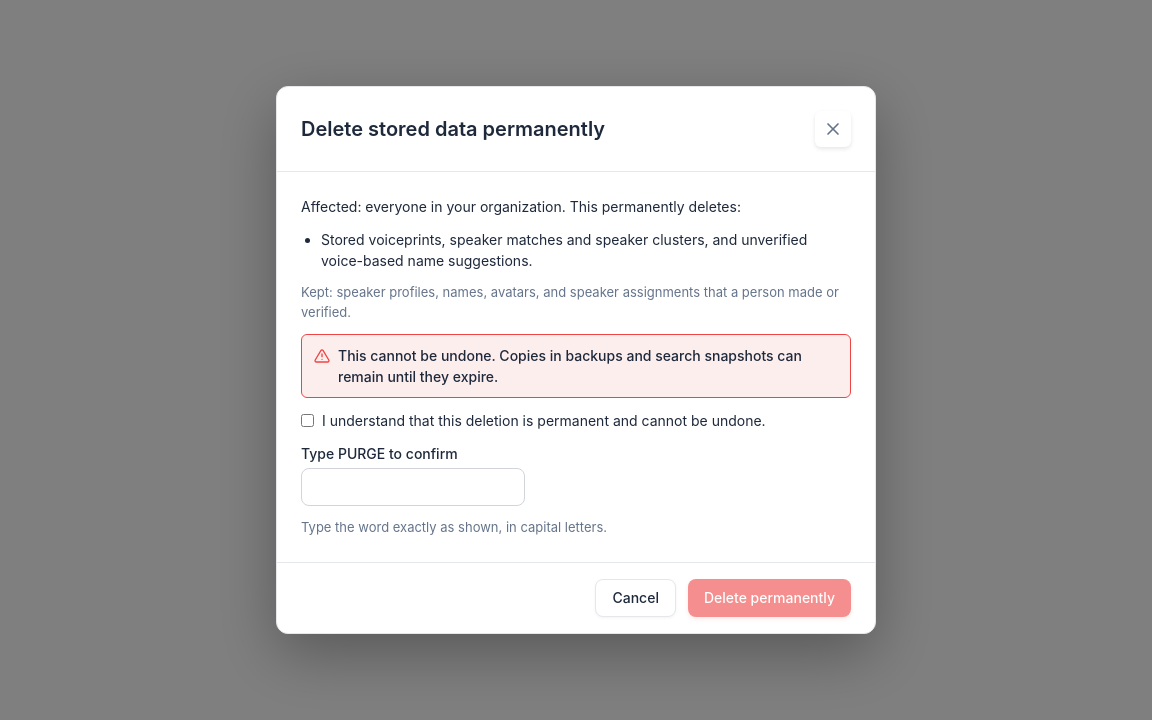
Test: PurgeConfirmDialog › follows the purge to completion and reports counts only
The image size is (1152, 720).
Click the checkbox at (308, 421), box [301, 414, 314, 427]
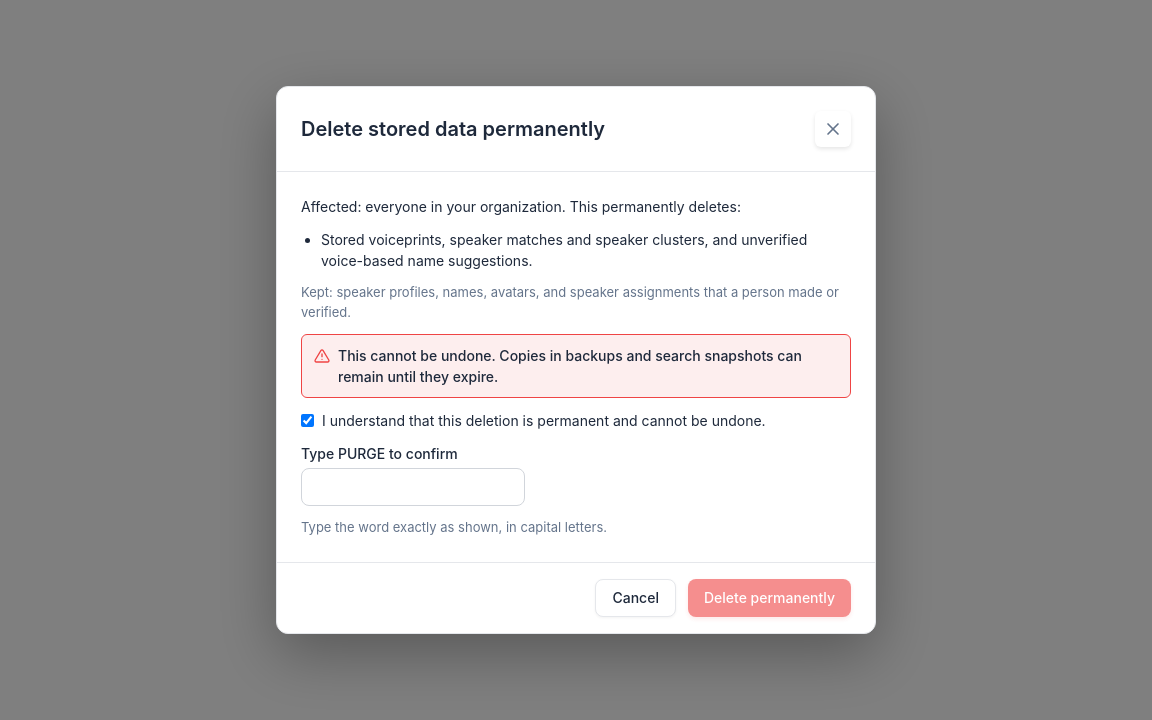
Type "PURGE" into the field at (413, 487), box [301, 468, 525, 506]
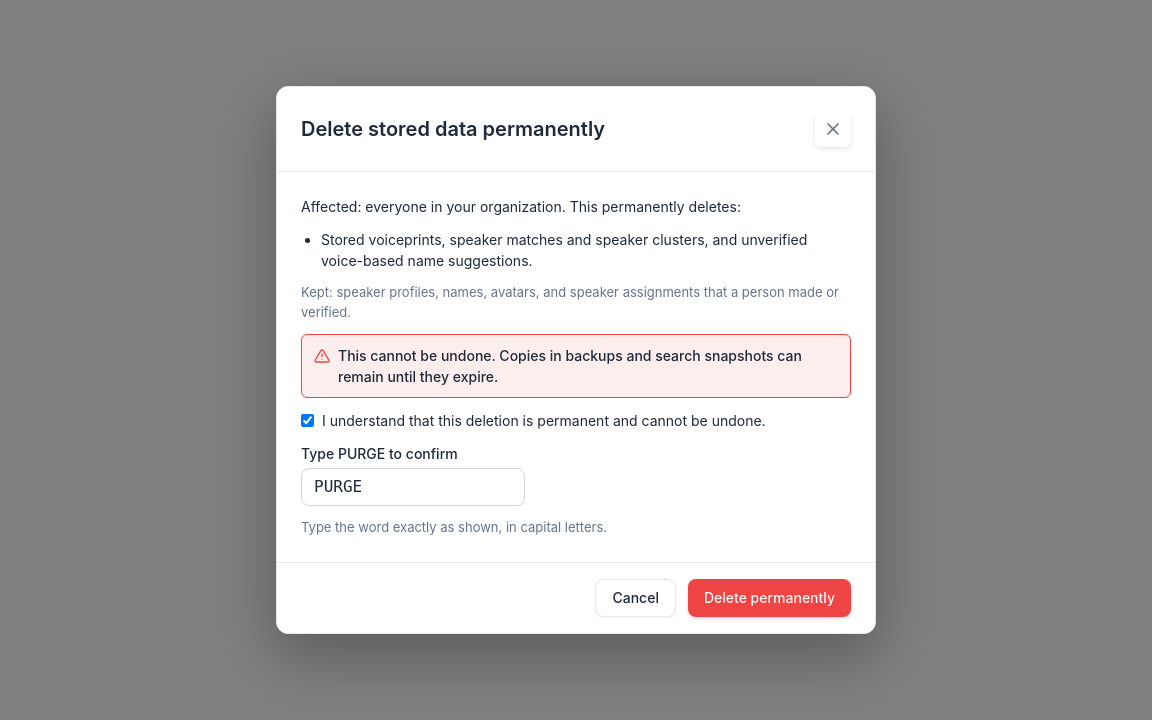
Click the button with test id "purge-confirm" at (770, 598), box [688, 579, 851, 617]
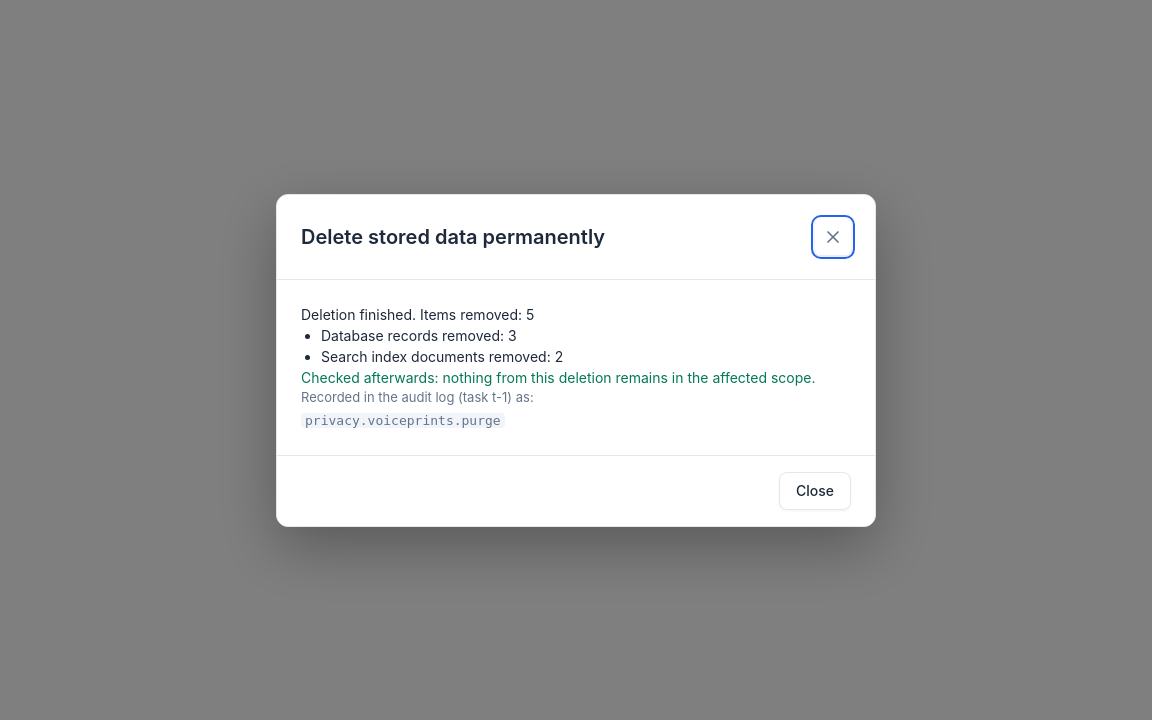
Check: the dialog shows "Deletion finished. Items removed: 5", box [301, 306, 534, 322]
Check: the button with test id "purge-confirm" is gone
